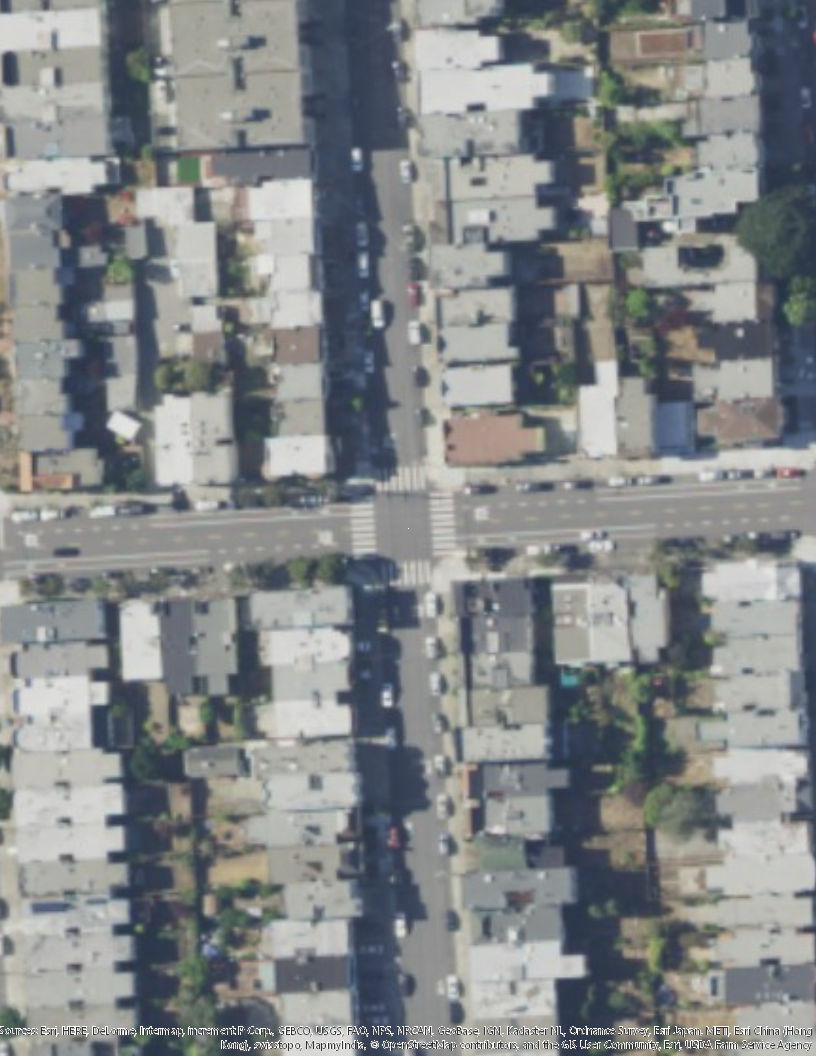zebracross: (350, 497, 379, 556), (373, 465, 427, 495), (429, 496, 455, 553), (382, 557, 431, 586)
